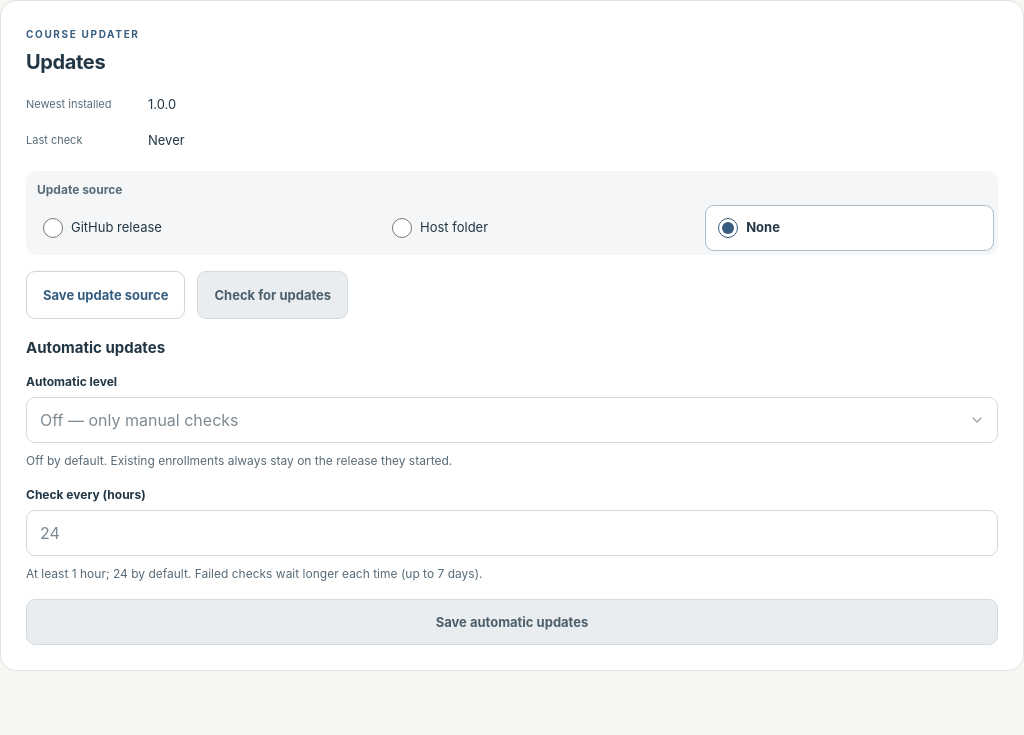
Test: course updates › saves a host-folder source by directory id and relative path
This screenshot has width=1024, height=735.
Click the radio button labelled "Host folder" at coordinates (402, 228), box top-left (392, 218), bottom-right (412, 238)
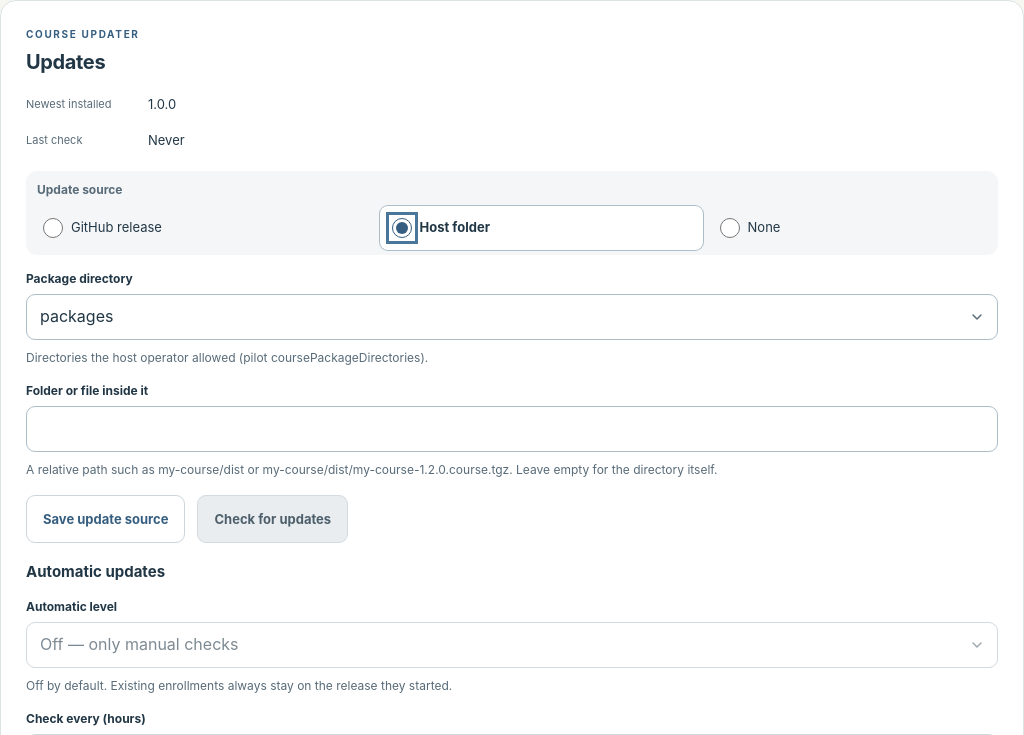
expect the dropdown labelled "Package directory" shows "packages": met, box top-left (26, 294), bottom-right (998, 340)
Type "synthetic/dist" into the field labelled "Folder or file inside it" at coordinates (512, 429), box top-left (26, 406), bottom-right (998, 452)
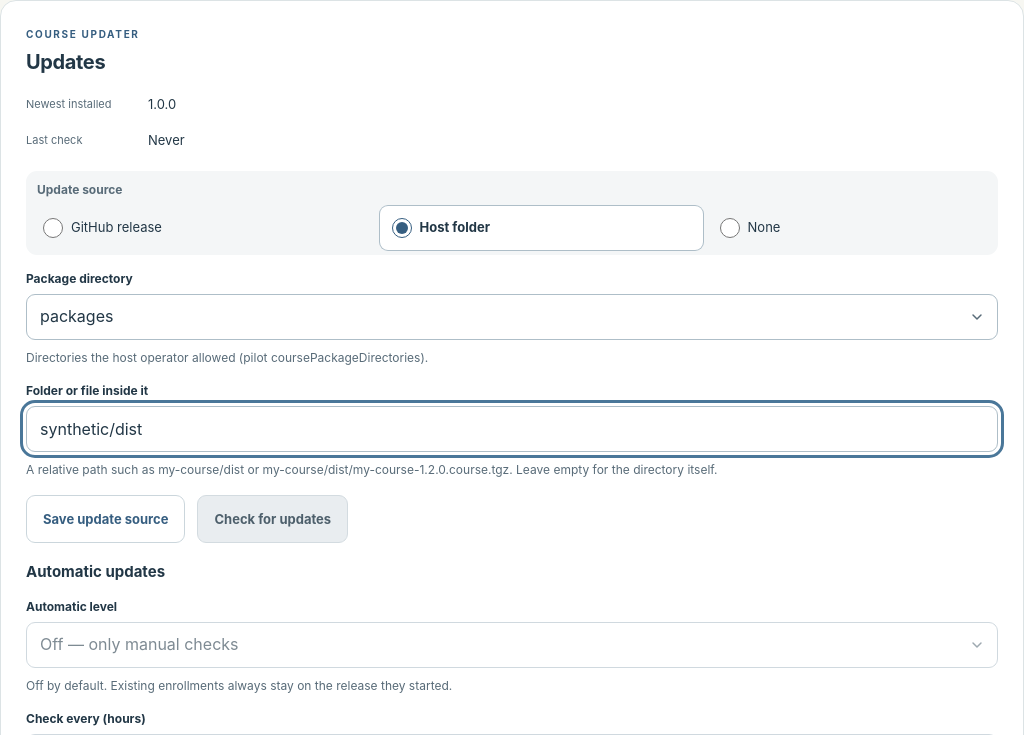
expect the button "Check for updates" is disabled: met, box top-left (197, 495), bottom-right (348, 543)
Click the button "Save update source" at coordinates (106, 519), box top-left (26, 495), bottom-right (185, 543)
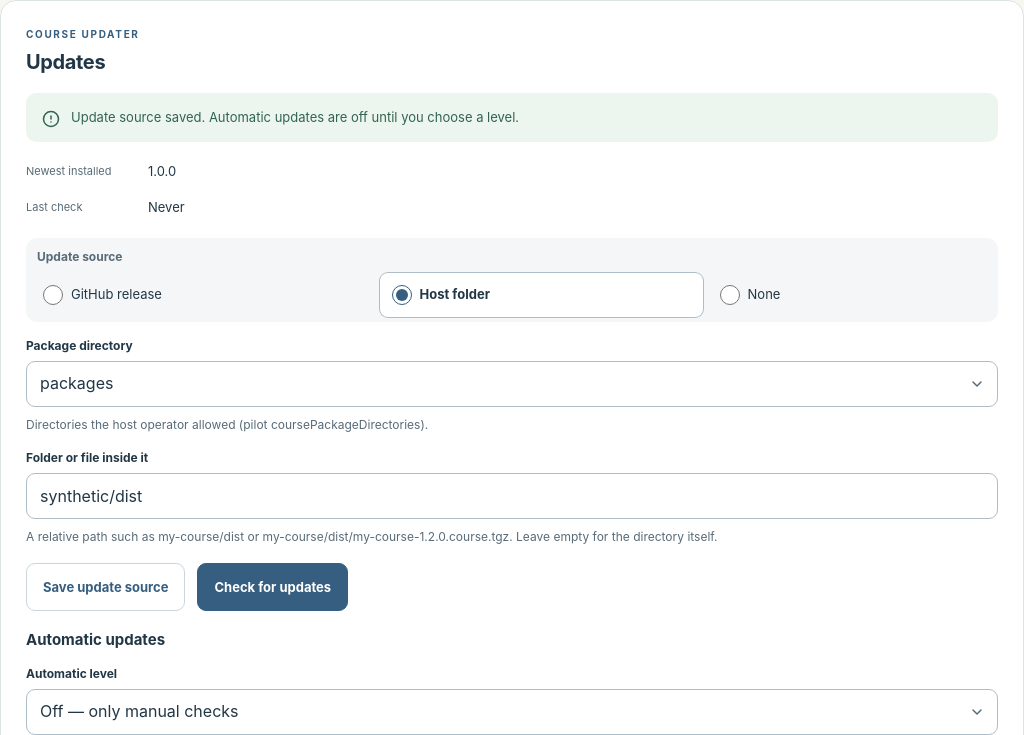
expect the text "Update source saved. Automatic updates are off until you choose a level." is shown: met, box top-left (71, 106), bottom-right (519, 128)
